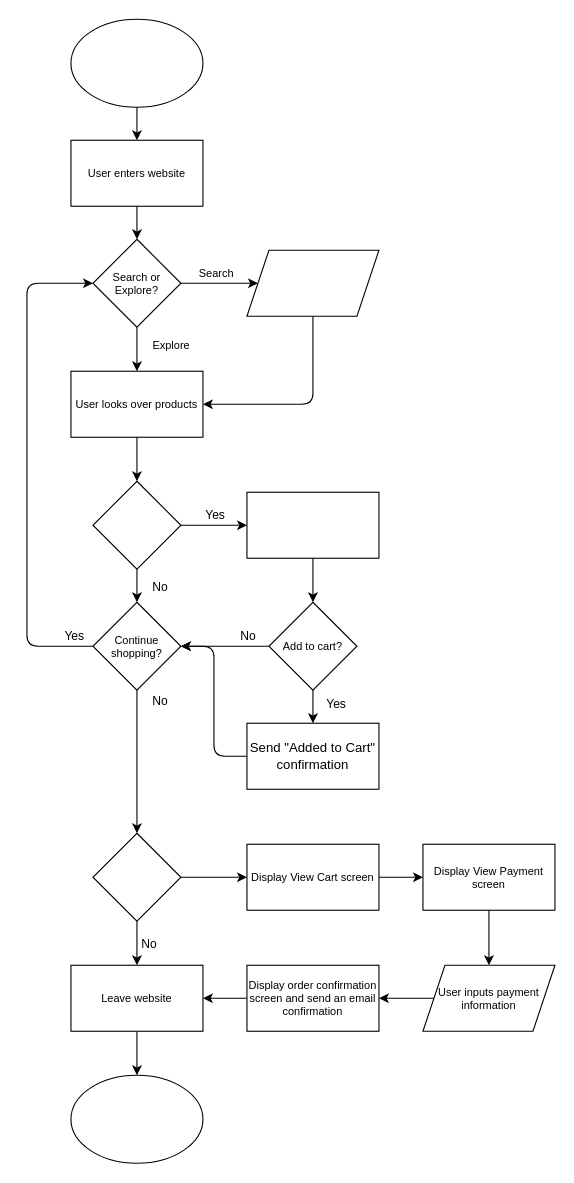
Image size: 574x1183. Some labels were removed from this diagram. Here are the shapes that lost their labels. From the top down, the centre of each, then its label:
At [136,62]: "Start".
At [312,282]: "User inputs search".
At [136,524]: "View specific product?".
At [312,524]: "Open product webpage".
At [136,876]: "Checkout?".
At [136,1118]: "End".
